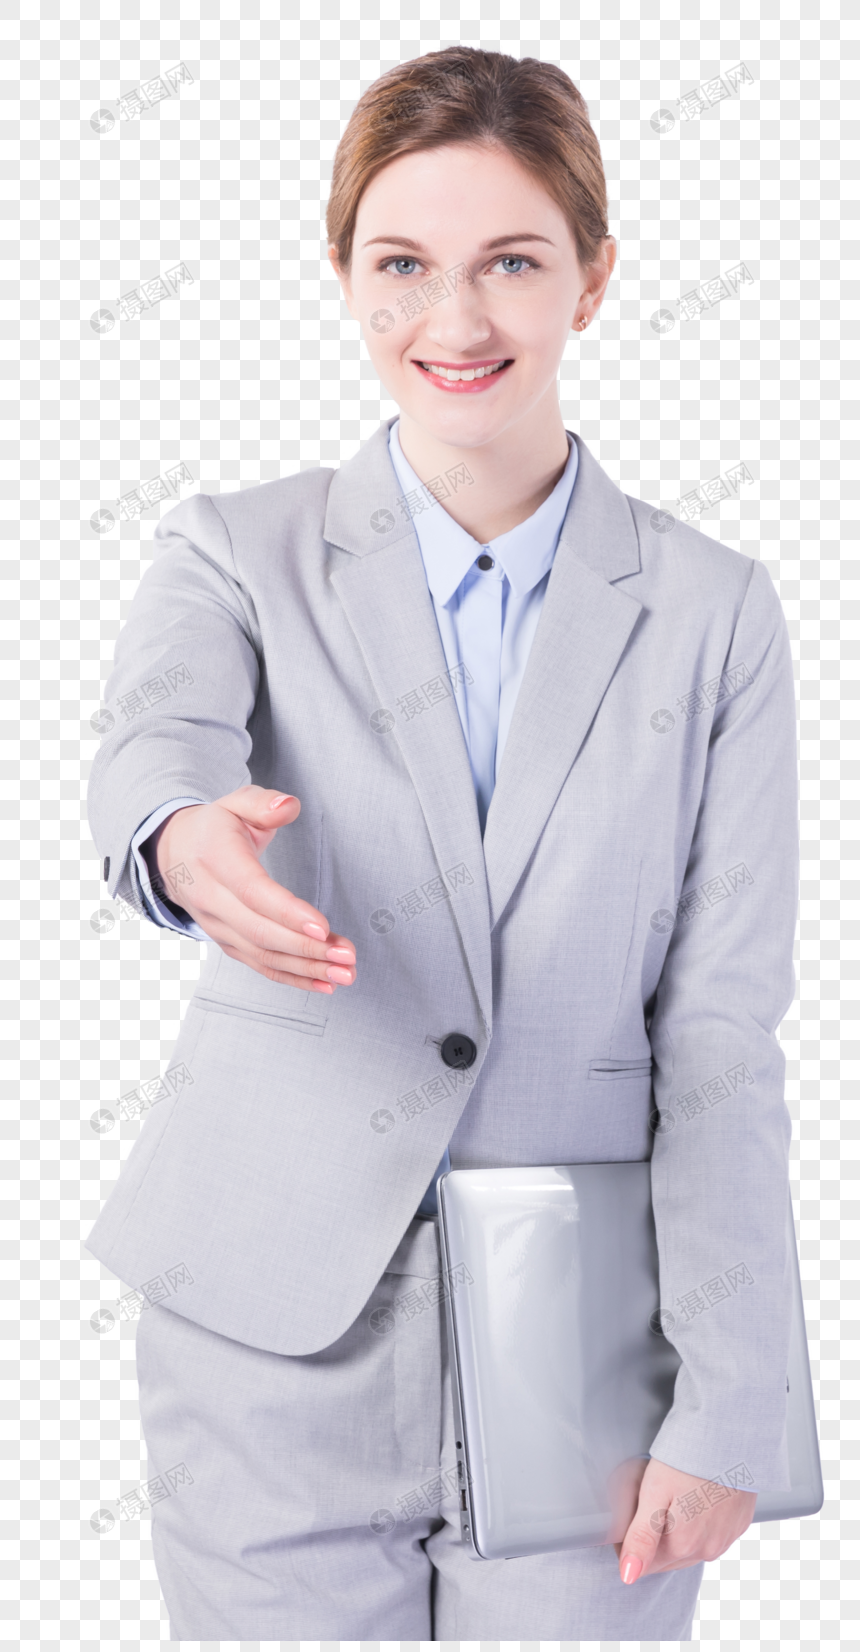no-phone: (168, 775, 365, 1000)
